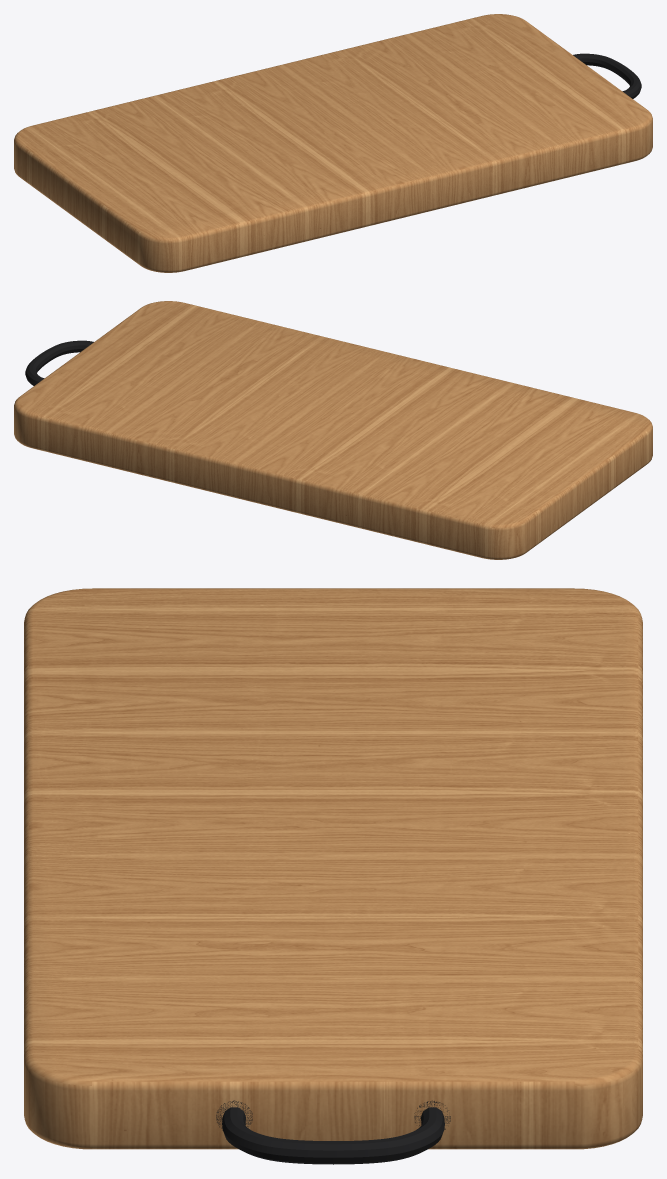
File: chopping_board.glb
The picture shows the model from 3 angles, top to bottom: view 1: azimuth 30°, elevation 25°; view 2: azimuth 150°, elevation 25°; view 3: azimuth 270°, elevation 25°; orthographic projection. The views are drawn at different scales.
Visible parts, largest first — view 1: Wood Chop Mango Wood Chopping Board; view 2: Wood Chop Mango Wood Chopping Board; view 3: Wood Chop Mango Wood Chopping Board.
Part boxes in pixels (x1,y1,x2,y2): Wood Chop Mango Wood Chopping Board: (14, 14, 652, 272); Wood Chop Mango Wood Chopping Board: (14, 301, 652, 559); Wood Chop Mango Wood Chopping Board: (24, 588, 642, 1164).
Size of the model in its own units: 0.4108 by 0.025 by 0.2.
Materials: 2 (1 with a texture image).
